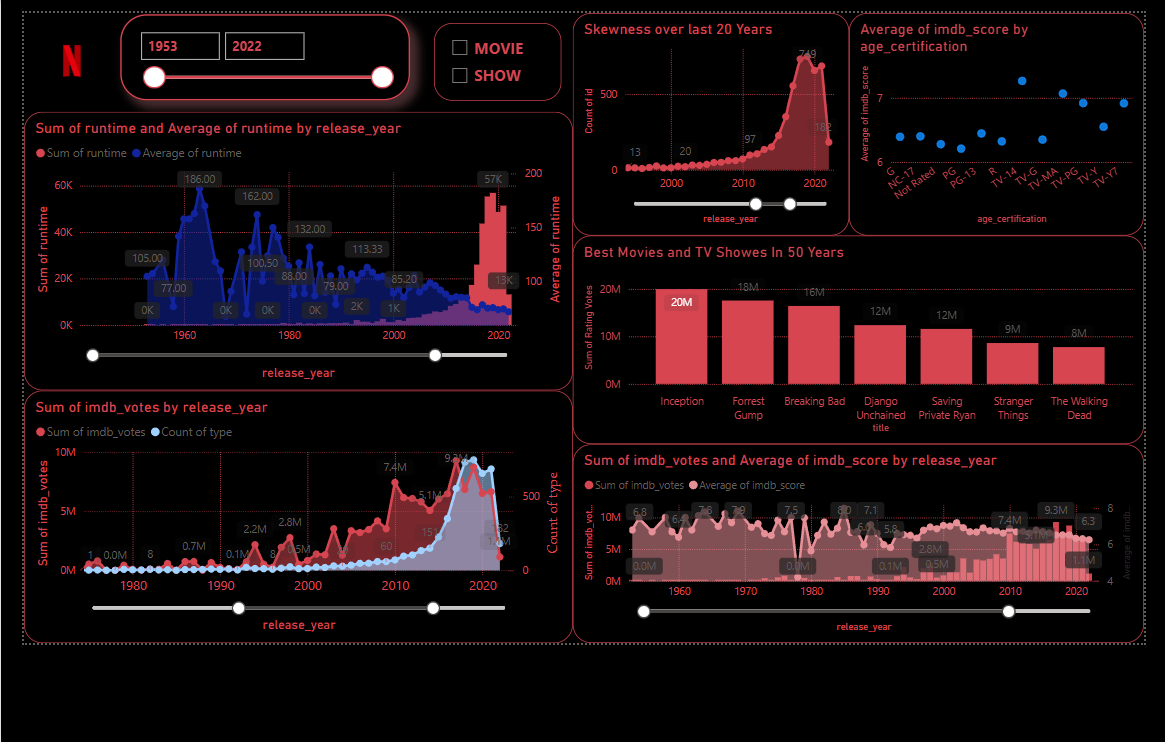

What the dashboard file says about the page in this screenshot:
{"tool":"powerbi","page":{"name":"Page 1","canvas":[1280,720],"ordinal":0},"visuals":[{"type":"image","box":[0,0,110,110],"z":0},{"type":"slicer","fields":{"Values":["Netflix TV Shows and Movies.release_year"]},"box":[110,1.4,331.4,98.6],"z":1000},{"type":"slicer","fields":{"Values":["Netflix TV Shows and Movies.type"]},"box":[468.6,11.4,145.7,88.6],"z":2000},{"type":"columnChart","title":"Best Movies and TV Showes In 50 Years","fields":{"Category":["Netflix TV Shows and Movies.title"],"Y":["Netflix TV Shows and Movies.Rating Votes"]},"box":[627.1,254.3,652.9,238.6],"z":3000},{"type":"lineChart","title":"Skewness over last 20 Years ","fields":{"Category":["Netflix TV Shows and Movies.release_year"],"Y":["Netflix TV Shows and Movies.id"]},"box":[627.1,0,315.7,254.3],"z":4000},{"type":"lineStackedColumnComboChart","fields":{"Category":["Netflix TV Shows and Movies.release_year"],"Y":["Netflix TV Shows and Movies.imdb_votes"],"Y2":["Netflix TV Shows and Movies.imdb_score"]},"box":[627.1,492.9,652.9,227.1],"z":6000},{"type":"lineChart","title":"Sum of imdb_votes by release_year","fields":{"Category":["Netflix TV Shows and Movies.release_year"],"Y":["Netflix TV Shows and Movies.imdb_votes"],"Y2":["Netflix TV Shows and Movies.type"]},"box":[0,431.4,627.1,288.6],"z":7000},{"type":"lineStackedColumnComboChart","fields":{"Category":["Netflix TV Shows and Movies.release_year"],"Y":["Netflix TV Shows and Movies.runtime"],"Y2":["Netflix TV Shows and Movies.runtime"]},"box":[0,112.9,627.1,318.6],"z":8000},{"type":"scatterChart","fields":{"X":["Netflix TV Shows and Movies.age_certification"],"Y":["Netflix TV Shows and Movies.imdb_score"]},"box":[942.9,0,337.1,254.3],"z":9000}]}

Visuals, with their boxes on the page's 1280x720 design canvas (x1, y1, x2, y2). These are canvas units, not pixel positions in the 1165x742 screenshot, which may show the page scaled, cropped or inside an application window:
image: [0,0,110,110]
slicer - Netflix TV Shows and Movies.release_year: [110,1,441,100]
slicer - Netflix TV Shows and Movies.type: [469,11,614,100]
"Best Movies and TV Showes In 50 Years" columnChart: [627,254,1280,493]
"Skewness over last 20 Years " lineChart: [627,0,943,254]
lineStackedColumnComboChart - Netflix TV Shows and Movies.release_year x Netflix TV Shows and Movies.imdb_votes: [627,493,1280,720]
"Sum of imdb_votes by release_year" lineChart: [0,431,627,720]
lineStackedColumnComboChart - Netflix TV Shows and Movies.release_year x Netflix TV Shows and Movies.runtime: [0,113,627,432]
scatterChart - Netflix TV Shows and Movies.age_certification x Netflix TV Shows and Movies.imdb_score: [943,0,1280,254]
